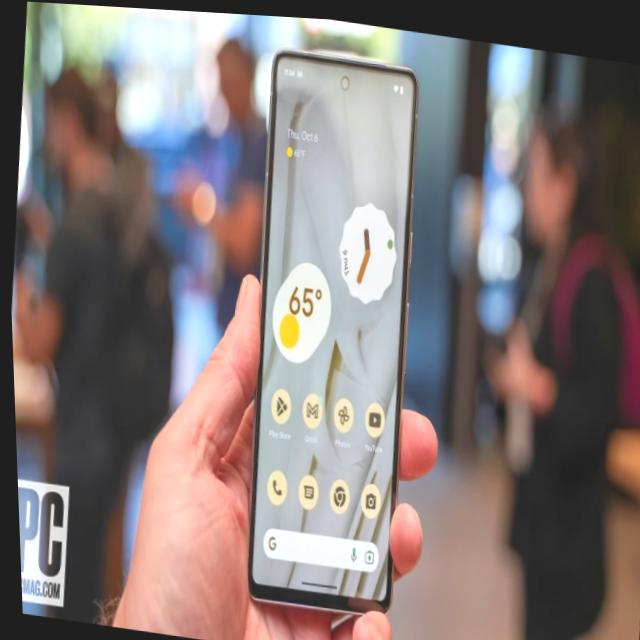Smartphone: (241, 41, 420, 609)
